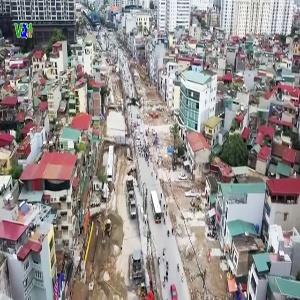drone: (112, 82, 156, 126)
